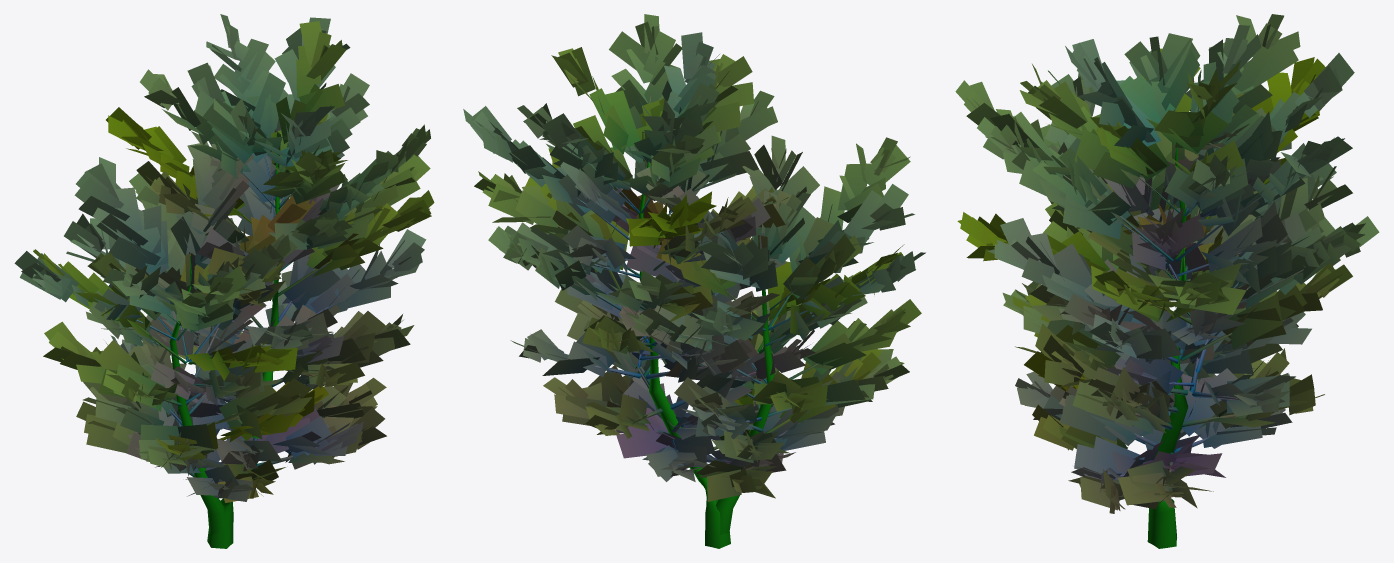
File: whitebark_b.glb
3 views of the same model, side by side, from view 1: azimuth 30°, elevation 25°; view 2: azimuth 150°, elevation 25°; view 3: azimuth 270°, elevation 25° (orthographic). The views are drawn at different scales.
Visible parts, largest first — view 1: LOD0; view 2: LOD0; view 3: LOD0.
Part boxes in pixels (x1,y1,x2,y2): LOD0: (14,14,434,548); LOD0: (463,14,925,548); LOD0: (955,14,1379,548).
Size of what is drawn, in the model's own units: 7.74 by 8.3 by 5.84.
